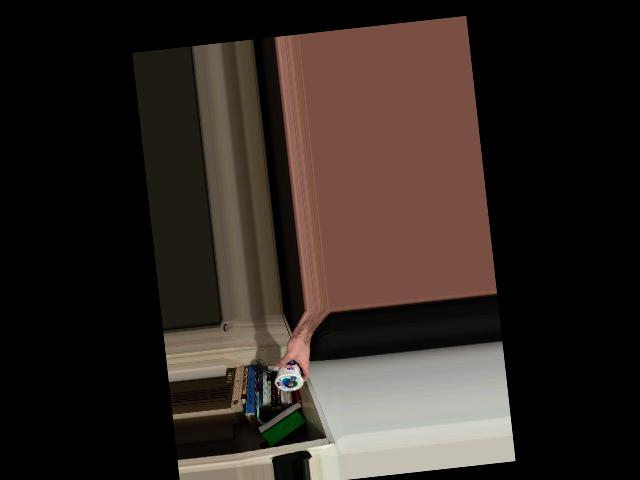cotage: (271, 354, 307, 394)
